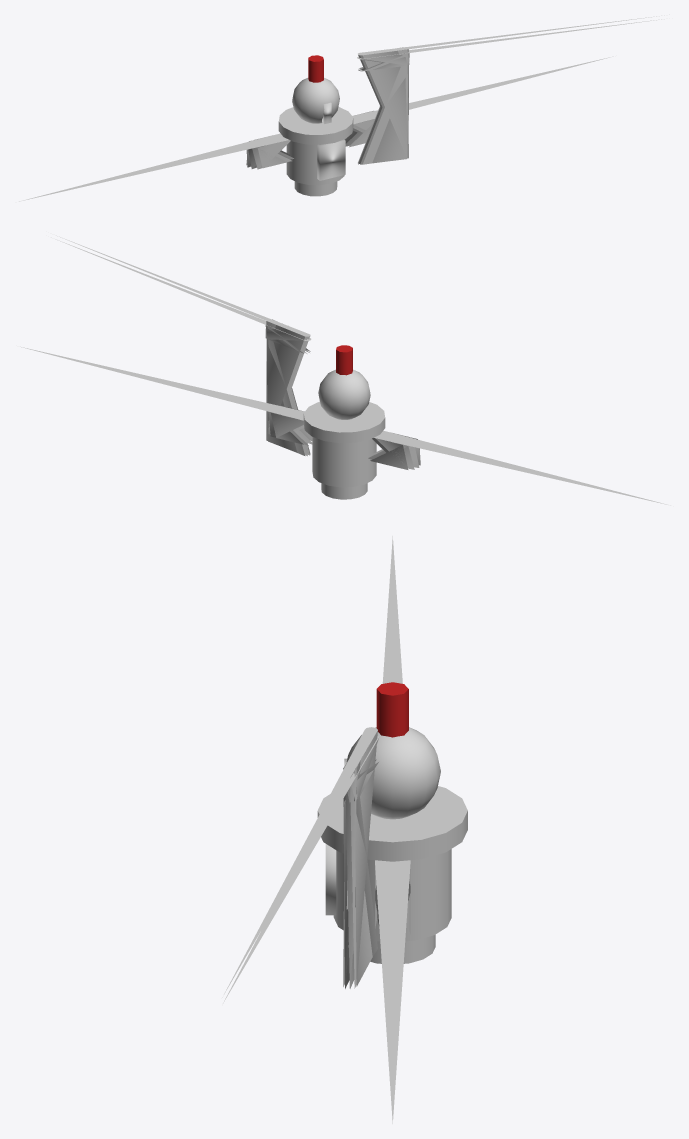
File: english_knights.obj
The picture shows the model from 3 angles, top to bottom: view 1: azimuth 30°, elevation 25°; view 2: azimuth 150°, elevation 25°; view 3: azimuth 270°, elevation 25°; orthographic projection. The views are drawn at different scales.
Parts seen in each view (by area): view 1: english_knight_white; view 2: english_knight_white; view 3: english_knight_white.
Boxes of the visible parts, x1,y1,x2,y2 form: english_knight_white: [19, 14, 669, 201]; english_knight_white: [20, 235, 670, 505]; english_knight_white: [222, 536, 467, 1123].
Bounding box in the file's own units: 5.32 × 1.06 × 0.92.
